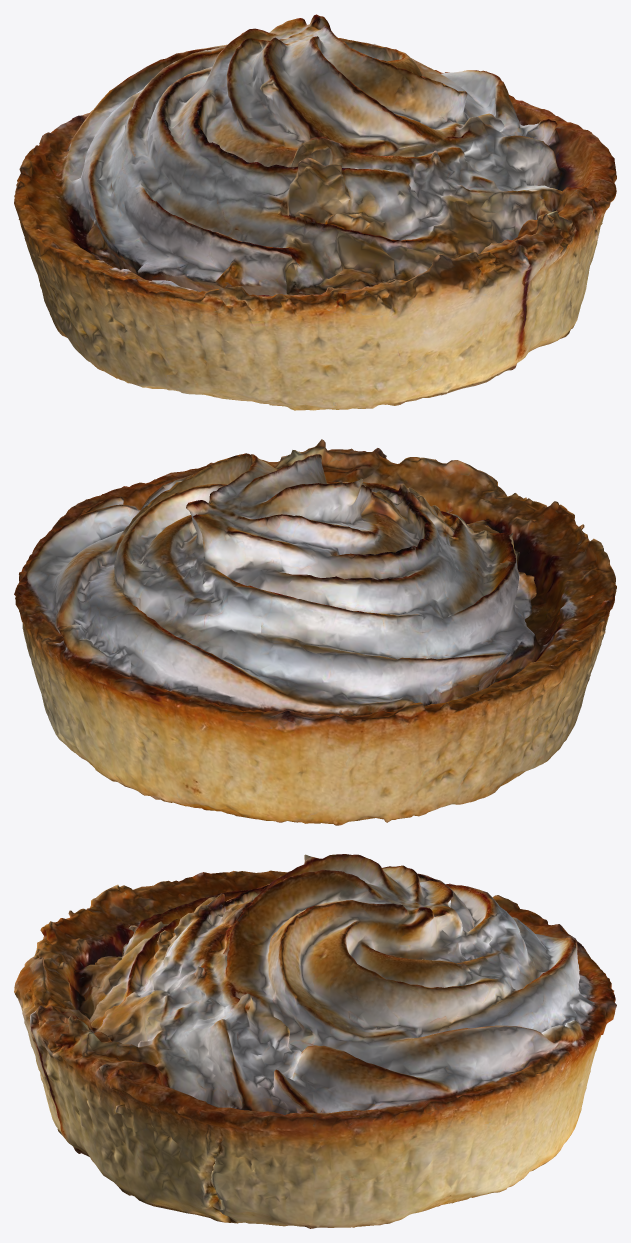
File: tarte-de-limao.glb
3 views of the same model, one above another, from view 1: azimuth 30°, elevation 25°; view 2: azimuth 150°, elevation 25°; view 3: azimuth 270°, elevation 25° (orthographic).
Parts seen in each view (by area): view 1: Object_2; view 2: Object_2; view 3: Object_2.
Part boxes in pixels (x1,y1,x2,y2): Object_2: (14,14,616,410); Object_2: (14,439,616,825); Object_2: (14,854,616,1228).
Size of the model in its own units: 0.12 by 0.0594 by 0.1193.
1 material, 1 textured.
